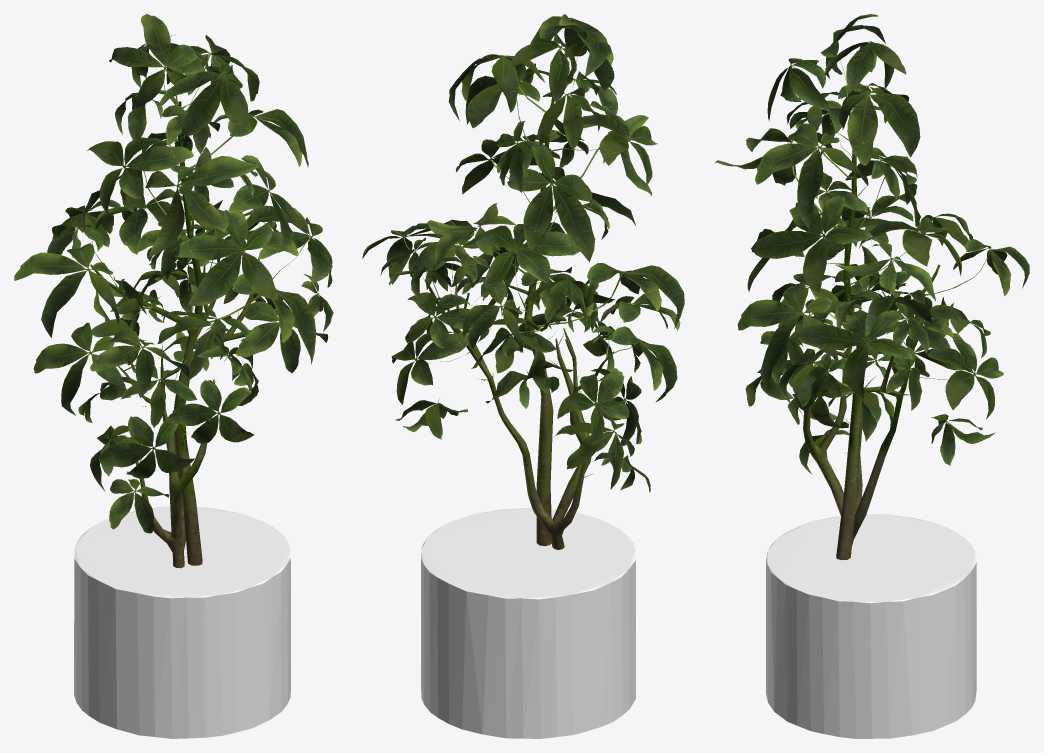
The model's file is pachira.glb.
The picture shows the model from 3 angles, left to right: view 1: azimuth 30°, elevation 25°; view 2: azimuth 150°, elevation 25°; view 3: azimuth 270°, elevation 25°; orthographic projection. The views are drawn at different scales.
Visible parts, largest first — view 1: pachira_aquatica_01_bark_d; view 2: pachira_aquatica_01_bark_d; view 3: pachira_aquatica_01_bark_d.
Boxes of the visible parts, x1,y1,x2,y2 form: pachira_aquatica_01_bark_d: [14, 14, 333, 738]; pachira_aquatica_01_bark_d: [362, 14, 684, 738]; pachira_aquatica_01_bark_d: [714, 14, 1029, 738].
Bounding box in the file's own units: 1.58 × 3.47 × 1.5.
3 materials, 2 textured.
